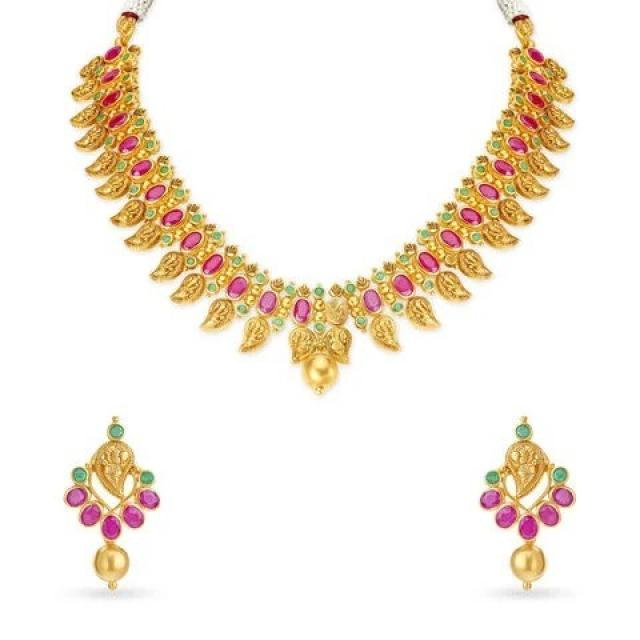missing gem: (327, 297, 349, 325), (447, 255, 455, 264)
